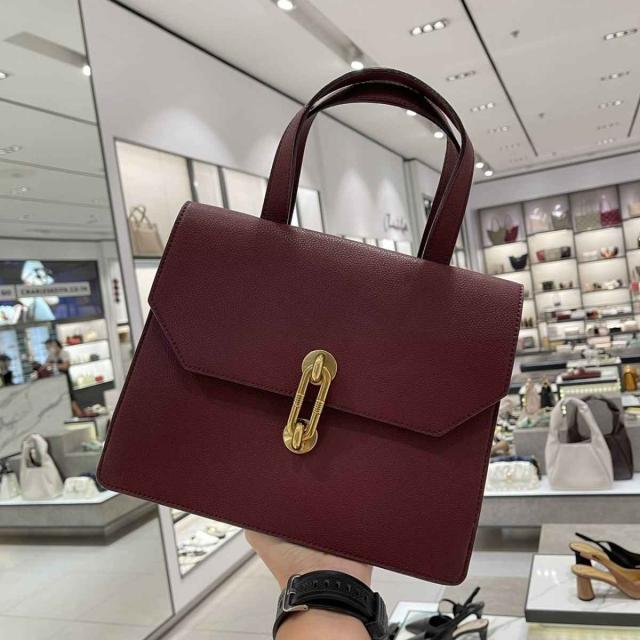Handbag: (85, 173, 555, 609)
